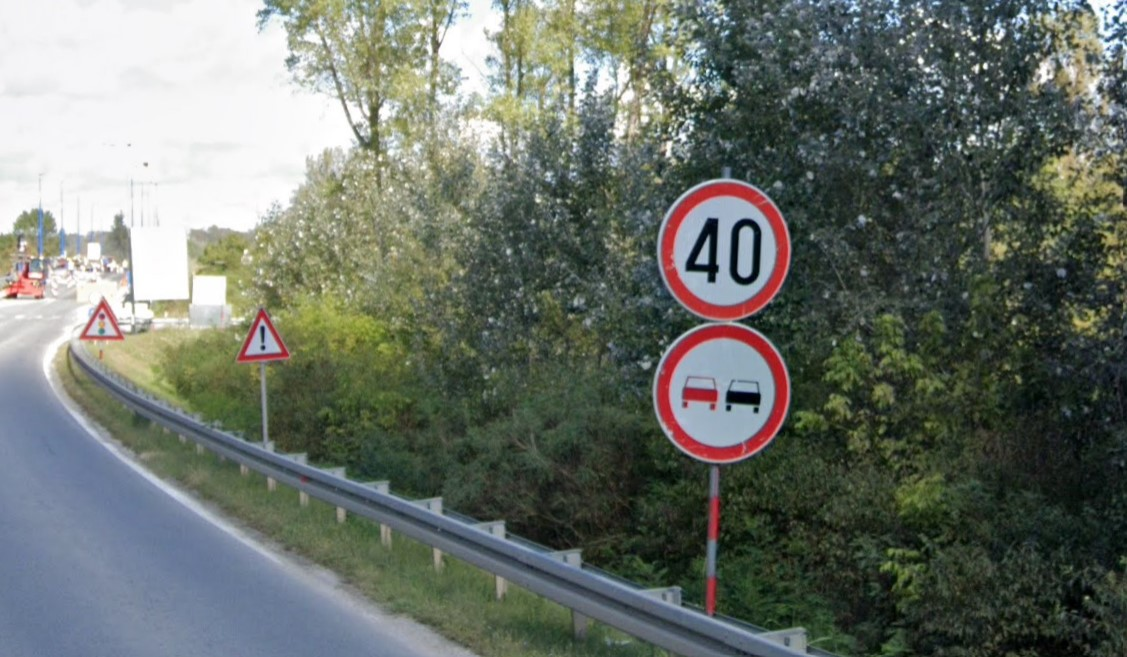Ograničenje brzine 40: (657, 177, 791, 322)
Zabrana pretjecanja: (652, 321, 791, 463)
